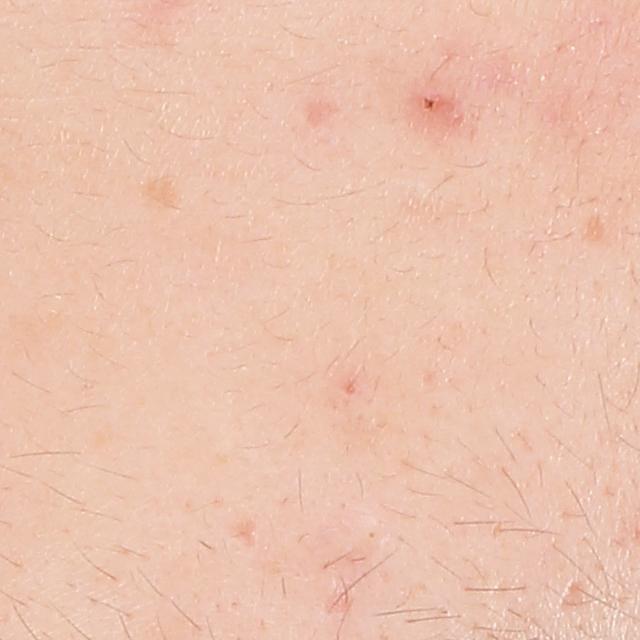atrophic_scar: (319, 575, 359, 624), (558, 577, 599, 610), (229, 516, 261, 550), (580, 212, 606, 243)
comedo: (362, 524, 381, 545)
papule: (412, 80, 456, 124)
